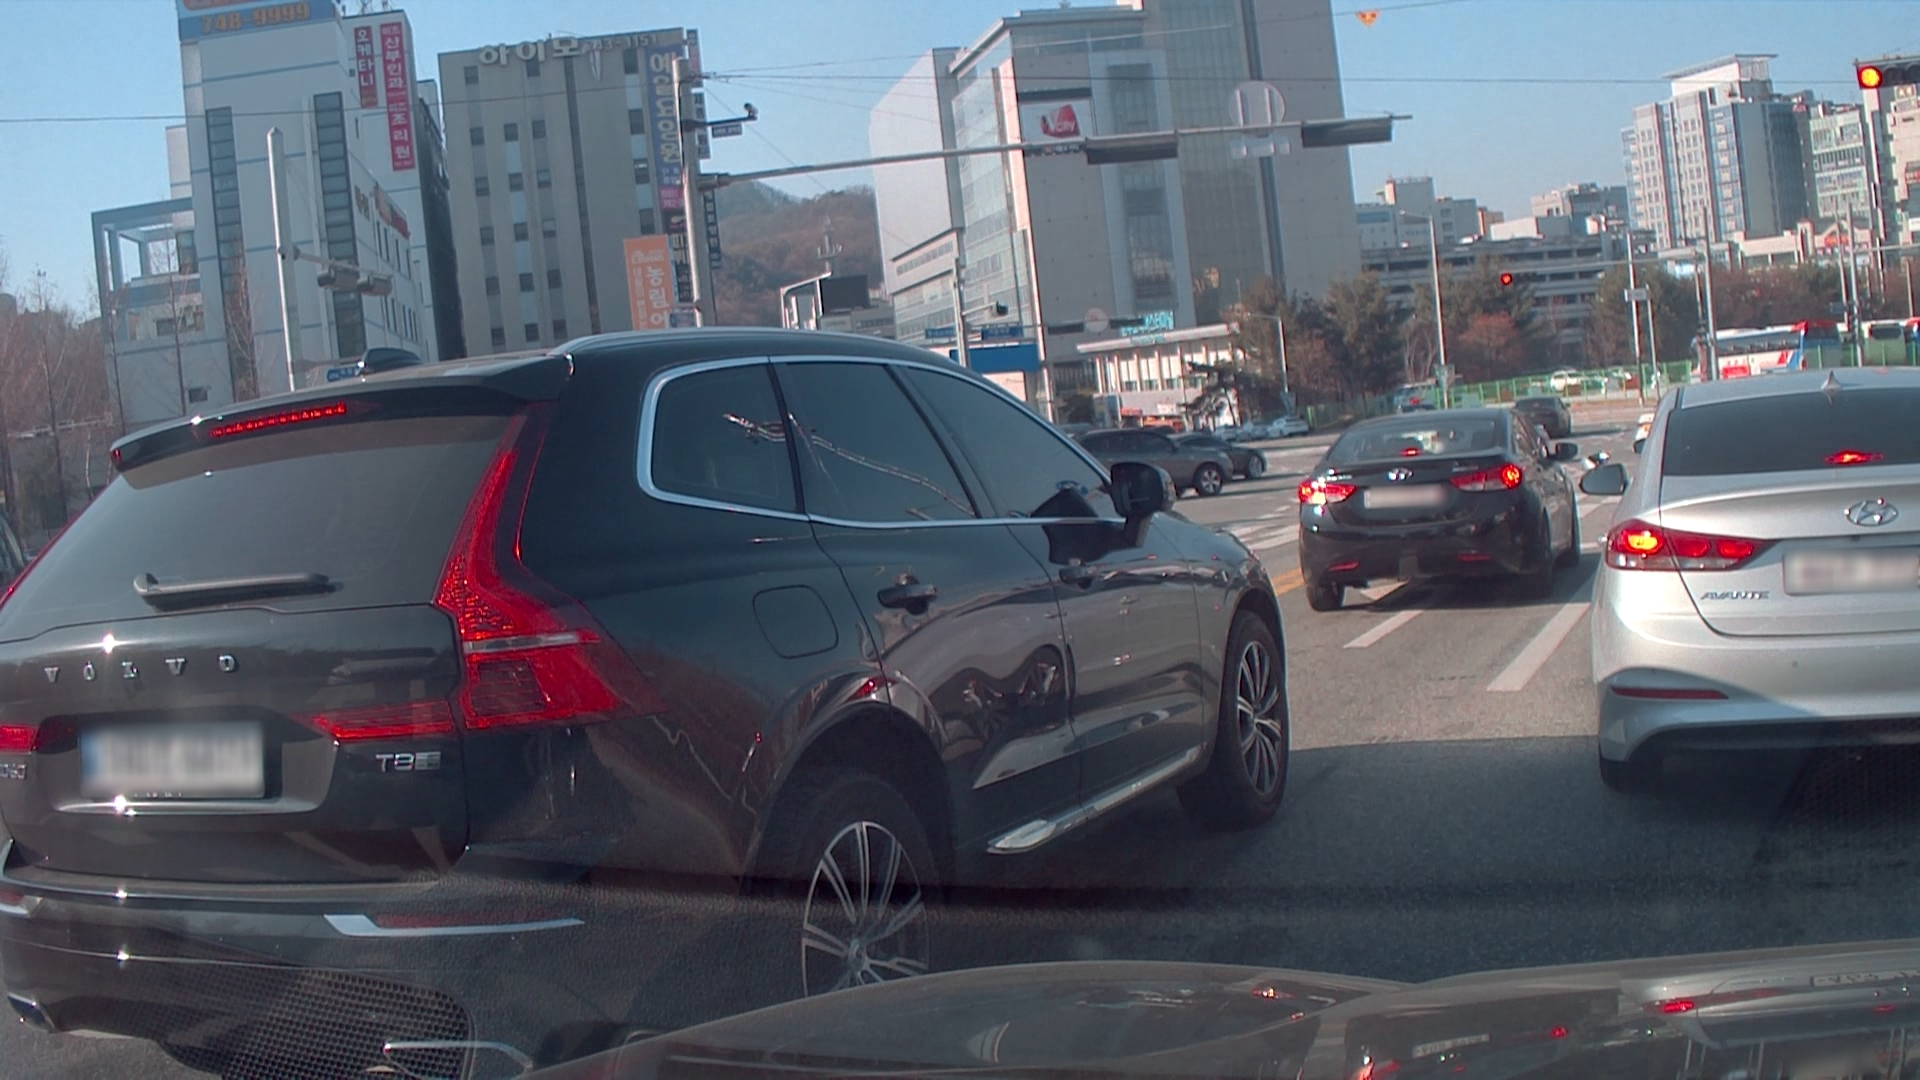trafficLight: (1857, 51, 1920, 94)
